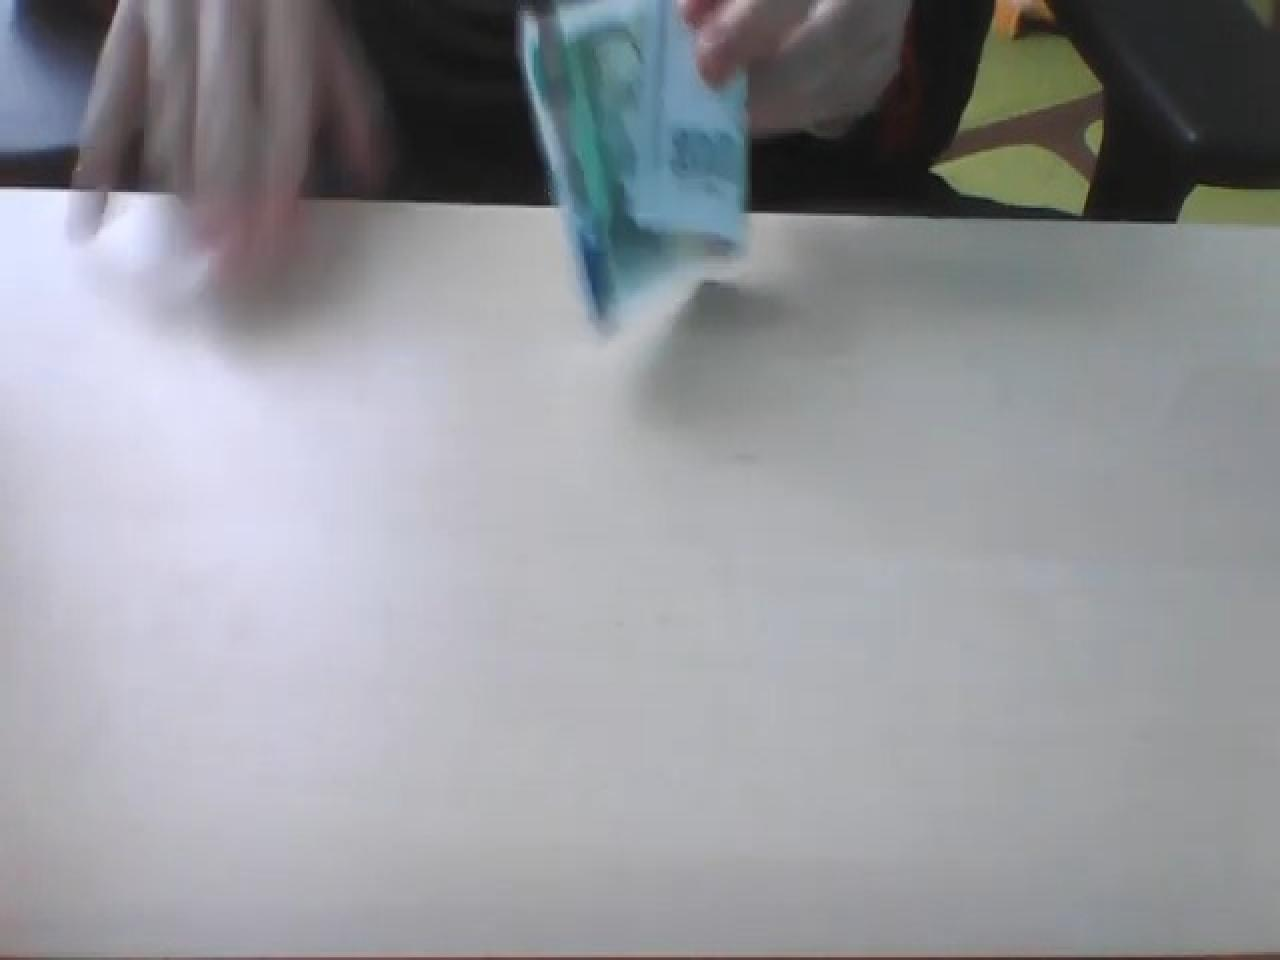100leva: (514, 0, 752, 333)
